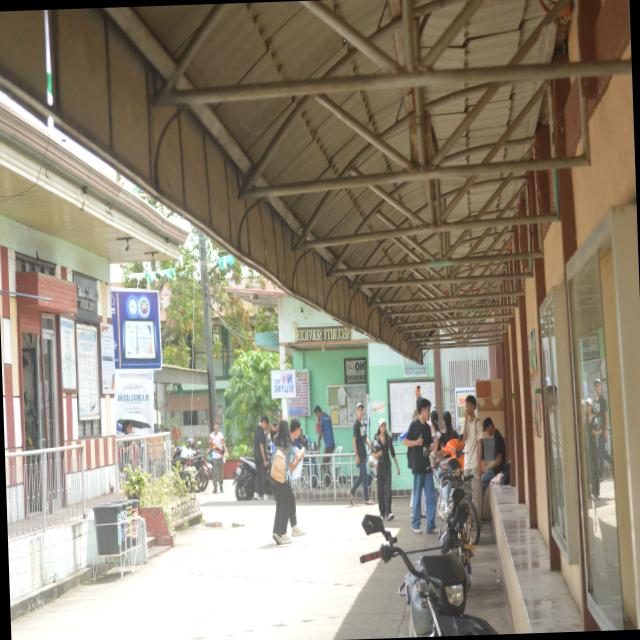person: (403, 398, 435, 534), (272, 420, 303, 544), (371, 418, 399, 520), (347, 403, 373, 505), (462, 395, 482, 523), (593, 379, 612, 481), (481, 418, 505, 496), (252, 416, 268, 500), (209, 419, 227, 493), (314, 406, 334, 453)
